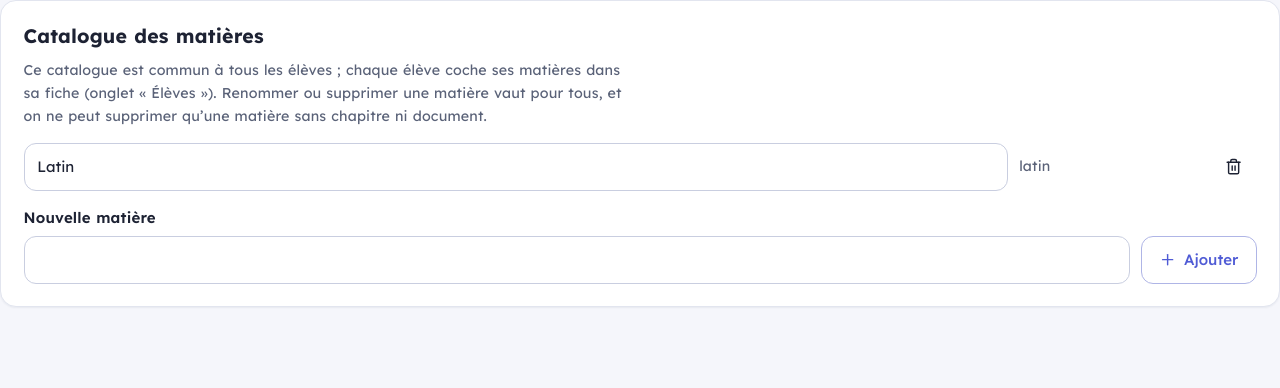
SubjectsSection › affiche le refus de suppression
Click the button named "Supprimer Latin" at (1234, 166), box [1210, 142, 1256, 190]
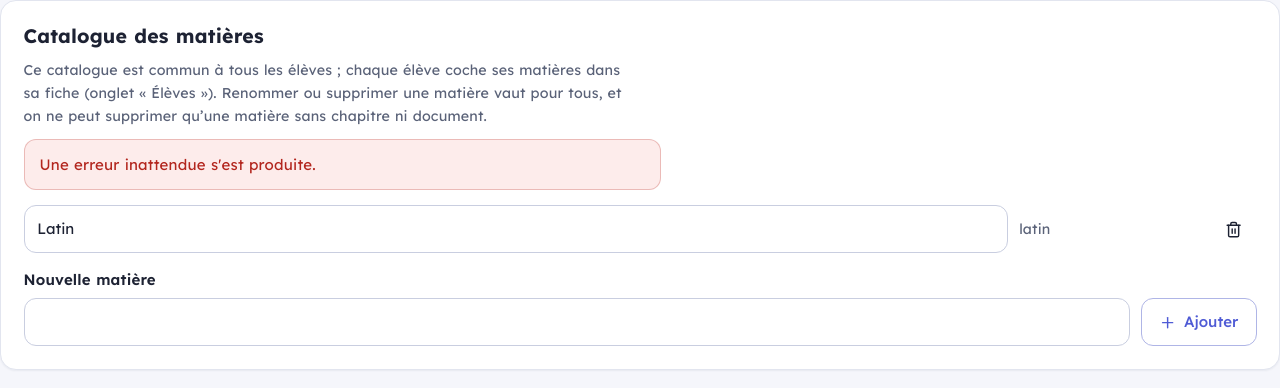
Result: the message "Une erreur inattendue s'est produite." is shown at [24, 139, 661, 190]
